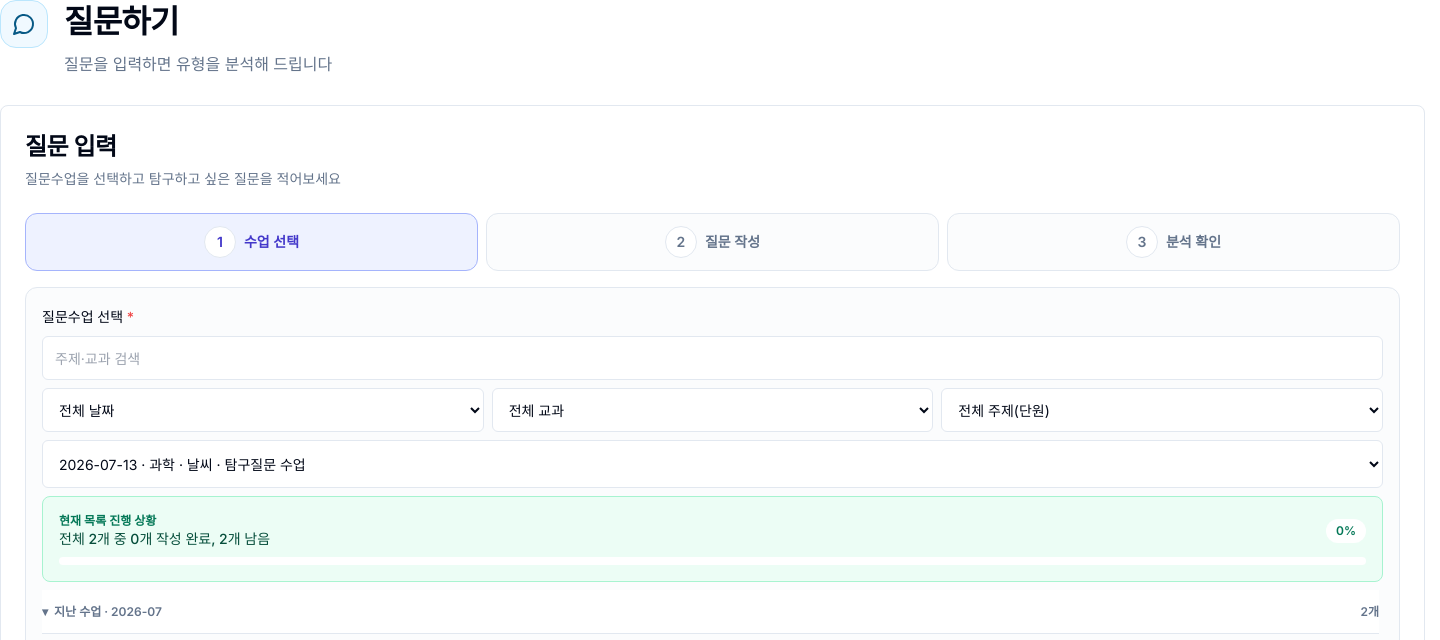
Test case: 학생 질문 분석 결과 › 수업을 빠르게 바꿔도 늦게 온 이전 수업 참고 자료로 덮이지 않는다
Step 1. Select "2026-07-14 · 사회 · 지역 · 탐구질문 수업" in the dropdown labelled "질문수업 선택 *" → (712, 464), box [42,440,1383,488]
(page scrolled)
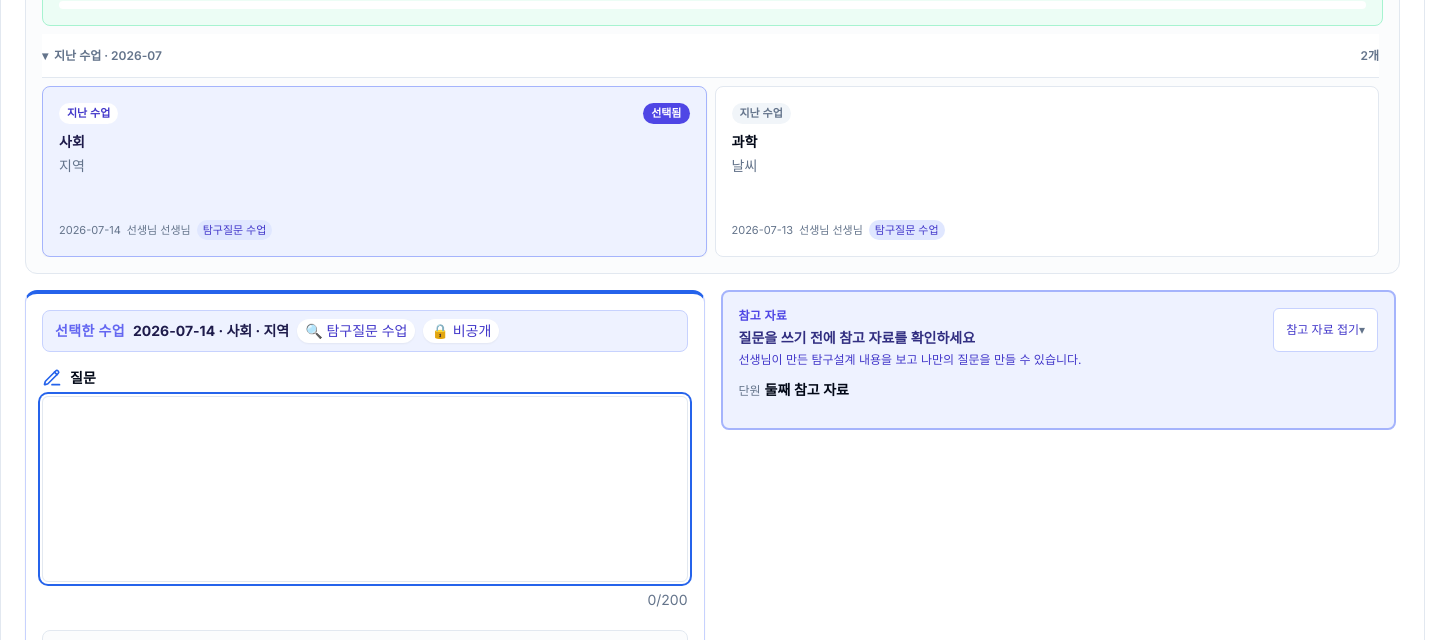
expect the text "둘째 참고 자료" is shown: met, box [765,381,849,398]
